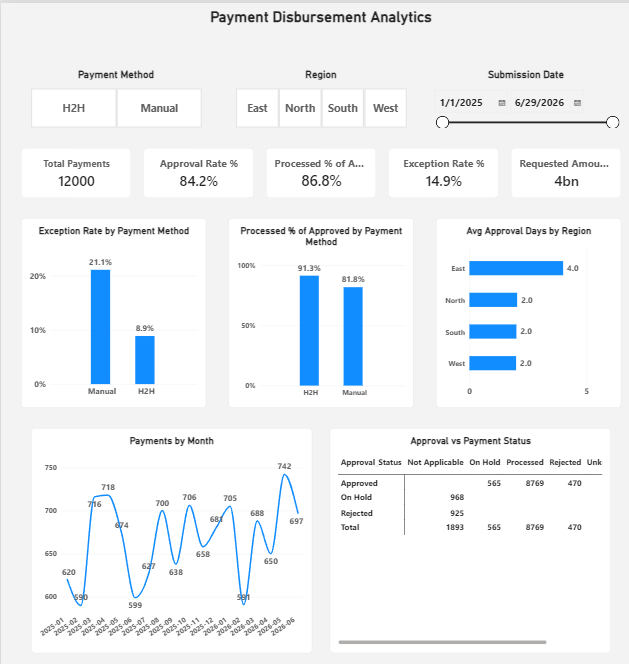

Layout of this report page (visuals, bound fields, positions):
{"tool":"powerbi","page":{"name":"Dashboard","canvas":[1280,1360],"ordinal":0},"visuals":[{"type":"clusteredColumnChart","title":"Processed % of Approved by Payment Method","fields":{"Category":["clean_payment_data.Payment_Method"],"Y":["clean_payment_data.Processed % of Approved"]},"box":[455,430,370,380],"z":0},{"type":"clusteredColumnChart","title":"Exception Rate by Payment Method","fields":{"Category":["clean_payment_data.Payment_Method"],"Y":["clean_payment_data.Exception Rate %"]},"box":[40,430,370,380],"z":1},{"type":"clusteredBarChart","title":"Avg Approval Days by Region","fields":{"Category":["clean_payment_data.Region"],"Y":["clean_payment_data.Avg Approval Days"]},"box":[870,430,370,380],"z":2},{"type":"clusteredBarChart","title":"Exception By Tyoe","fields":{"Category":["clean_payment_data.Exception_Type"],"Y":["clean_payment_data.Total Payments"]},"box":[1320.1,8.7,300,300],"z":3},{"type":"lineChart","title":"Payments by Month","fields":{"Category":["clean_payment_data.Submission Month"],"Y":["clean_payment_data.Total Payments"]},"box":[60,850,562,450],"z":4},{"type":"pivotTable","title":"Approval vs Payment Status","fields":{"Columns":["clean_payment_data.Payment_Status"],"Rows":["clean_payment_data.Approval_Status"],"Values":["clean_payment_data.Total Payments"]},"box":[658,850,562,450],"z":5},{"type":"slicer","title":"Payment Method","fields":{"Values":["clean_payment_data.Payment_Method"]},"box":[40,130,380,120],"z":6},{"type":"slicer","title":"Region","fields":{"Values":["clean_payment_data.Region"]},"box":[450,130,380,120],"z":7},{"type":"slicer","title":"Submission Date","fields":{"Values":["clean_payment_data.Submission_Date"]},"box":[860,130,380,120],"z":8},{"type":"cardVisual","fields":{"Data":["clean_payment_data.Total Payments"]},"box":[40,290.2,220,100],"z":9},{"type":"cardVisual","fields":{"Data":["clean_payment_data.Requested Amount (INR)"]},"box":[1020,290.2,220,100],"z":10},{"type":"cardVisual","fields":{"Data":["clean_payment_data.Approval Rate %"]},"box":[285,290,220,100],"z":11},{"type":"cardVisual","fields":{"Data":["clean_payment_data.Processed % of Approved"]},"box":[530,290,220,100],"z":12},{"type":"cardVisual","fields":{"Data":["clean_payment_data.Exception Rate %"]},"box":[775,290,220,100],"z":13},{"type":"textbox","title":"Payment Disbursement Analytics","box":[0,8.9,1280,53.6],"z":14}]}

Visuals, with their boxes in screenshot pixels (x1, y1, x2, y2), scaled from the page's 1280x1360 canvas onto the 629x664 screenshot:
"Processed % of Approved by Payment Method" clusteredColumnChart: [224,210,405,395]
"Exception Rate by Payment Method" clusteredColumnChart: [20,210,201,395]
"Avg Approval Days by Region" clusteredBarChart: [428,210,609,395]
"Payments by Month" lineChart: [29,415,306,635]
"Approval vs Payment Status" pivotTable: [323,415,600,635]
"Payment Method" slicer: [20,63,206,122]
"Region" slicer: [221,63,408,122]
"Submission Date" slicer: [423,63,609,122]
cardVisual - clean_payment_data.Total Payments: [20,142,128,191]
cardVisual - clean_payment_data.Requested Amount (INR): [501,142,609,191]
cardVisual - clean_payment_data.Approval Rate %: [140,142,248,190]
cardVisual - clean_payment_data.Processed % of Approved: [260,142,369,190]
cardVisual - clean_payment_data.Exception Rate %: [381,142,489,190]
"Payment Disbursement Analytics" textbox: [0,4,628,31]
